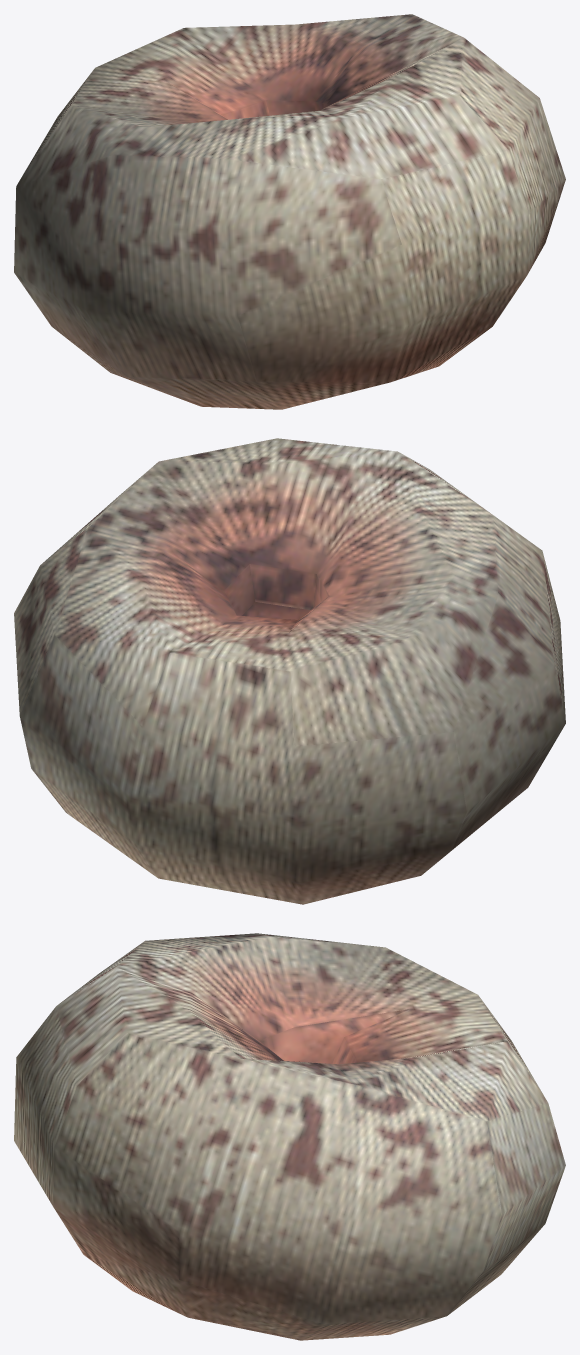
File: 08_ING_mushroom_earthball.glb
3 renders of one model, top to bottom at view 1: azimuth 30°, elevation 25°; view 2: azimuth 150°, elevation 25°; view 3: azimuth 270°, elevation 25°, orthographic. The views are drawn at different scales.
Parts seen in each view (by area): view 1: 08_ING_mushroom_earthball; view 2: 08_ING_mushroom_earthball; view 3: 08_ING_mushroom_earthball.
Part boxes in pixels (bbox=[...]): 08_ING_mushroom_earthball: bbox=[14, 14, 565, 409]; 08_ING_mushroom_earthball: bbox=[14, 438, 565, 904]; 08_ING_mushroom_earthball: bbox=[14, 933, 565, 1340].
Bounding box in the file's own units: 0.0702 × 0.0456 × 0.0715.
1 material, 1 textured.
